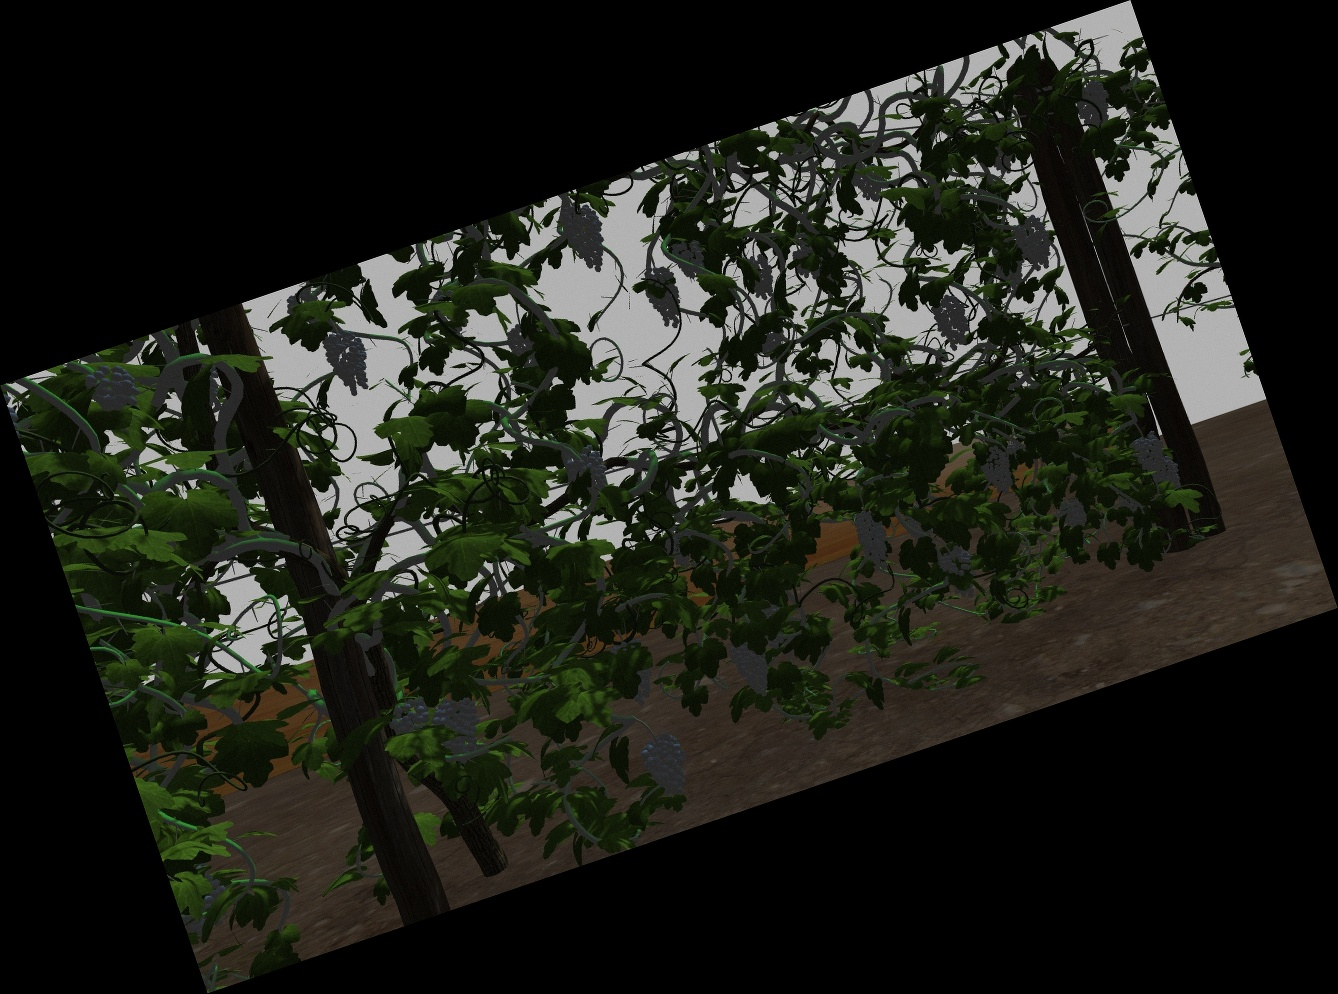grape: (565, 205, 604, 273), (645, 736, 687, 797), (733, 636, 772, 699), (330, 334, 371, 395), (568, 450, 610, 505), (647, 267, 683, 331), (437, 699, 481, 749), (89, 365, 135, 410), (1017, 217, 1053, 269), (856, 510, 888, 566), (1075, 81, 1113, 129), (935, 295, 967, 349), (980, 447, 1013, 495), (746, 256, 776, 300), (673, 240, 704, 282), (388, 701, 430, 732), (855, 162, 885, 202), (1136, 434, 1164, 475), (940, 547, 973, 577), (1058, 498, 1088, 528), (1154, 463, 1182, 490)
